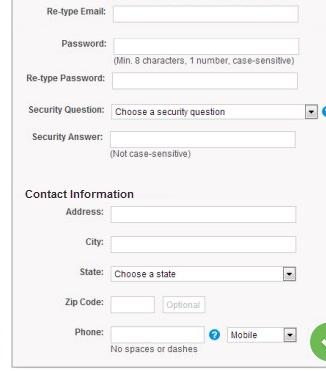button: (162, 295, 205, 315)
field: (111, 4, 299, 25), (109, 234, 299, 254), (108, 205, 297, 225), (108, 130, 295, 150), (111, 264, 297, 284), (110, 71, 300, 89), (111, 36, 299, 54), (110, 103, 319, 119), (108, 326, 208, 345), (225, 326, 298, 343), (108, 295, 155, 314)
field_with_label: (47, 2, 301, 27), (27, 69, 302, 91), (32, 129, 298, 151), (31, 102, 322, 121), (68, 203, 299, 226), (81, 263, 299, 287), (61, 34, 301, 55), (87, 233, 301, 255), (75, 324, 210, 347), (66, 293, 157, 316)
